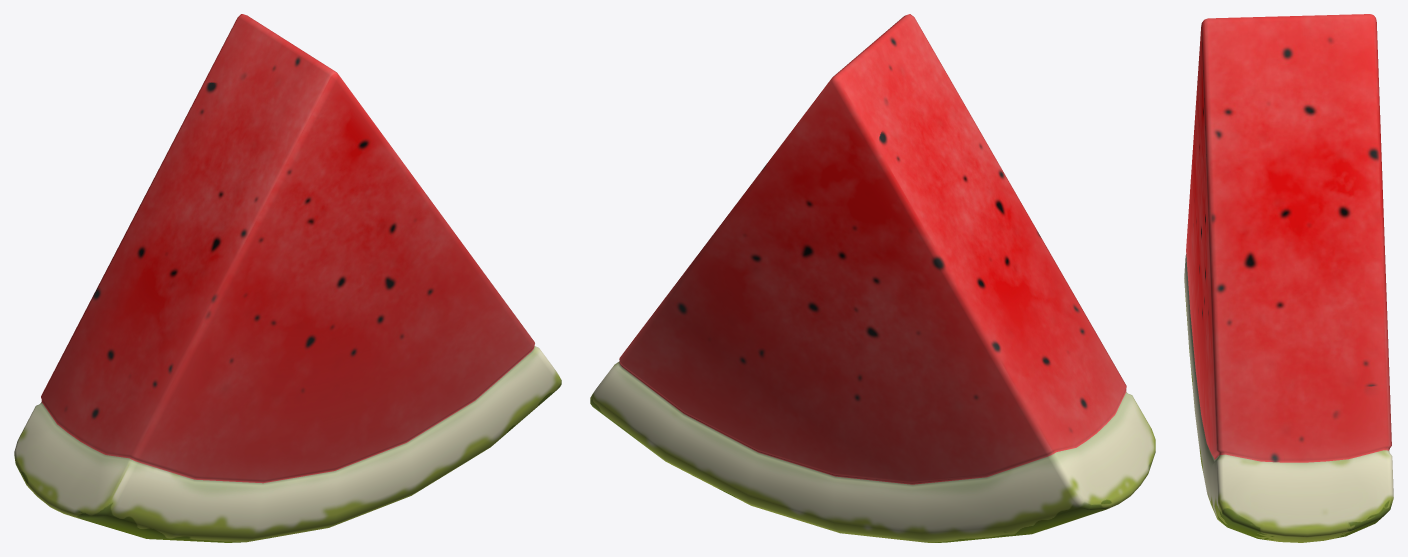
The model's file is WaterMelon - UPLOAD.fbx.
The picture shows the model from 3 angles, left to right: view 1: azimuth 30°, elevation 25°; view 2: azimuth 150°, elevation 25°; view 3: azimuth 270°, elevation 25°; orthographic projection.
Visible parts, largest first — view 1: Melon_low; view 2: Melon_low; view 3: Melon_low.
Boxes of the visible parts, <box> form: Melon_low: <box>14,14,561,542</box>; Melon_low: <box>590,14,1155,542</box>; Melon_low: <box>1184,14,1393,542</box>.
Bounding box in the file's own units: 106 × 96.35 × 38.31.
